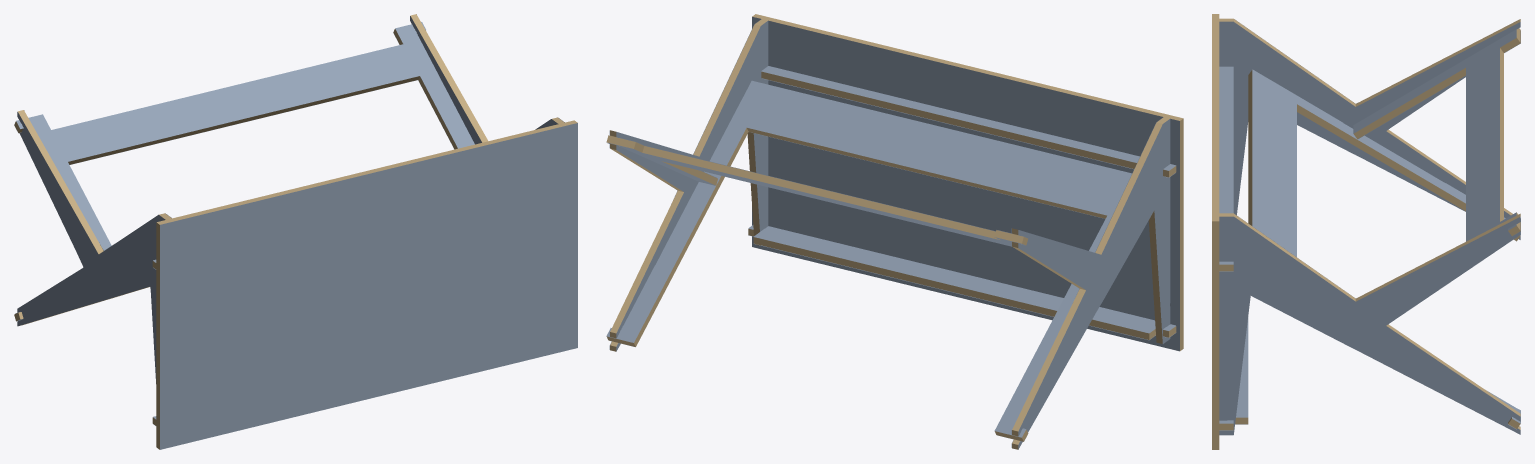
File: NODO_ESCRITORIO_ESCULTORICO_CUARZO_AR_UNIVERSAL_V11.glb
The picture shows the model from 3 angles, left to right: view 1: azimuth 30°, elevation 25°; view 2: azimuth 150°, elevation 25°; view 3: azimuth 270°, elevation 25°; orthographic projection. The views are drawn at different scales.
Visible parts, largest first — view 1: G_Tapa_Superior_CARAS_COLOR_REAL, B_Escuadra_Trasera_PIEL_LISA_1, D_Lateral_Izq_PIEL_LISA_-1, G_Tapa_Superior_CANTO_MDF, B_Escuadra_Trasera_canto, D_Lateral_Izq_cuerpo, D_Lateral_Izq_canto, C_Lateral_Der_canto, C_Lateral_Der_PIEL_LISA_-1; view 2: G_Tapa_Superior_CARAS_COLOR_REAL, A_Escuadra_Delantera_PIEL_LISA_1, D_Lateral_Izq_PIEL_LISA_-1, F_Traba_Delantera_PIEL_LISA_1, A_Escuadra_Delantera_cuerpo, C_Lateral_Der_PIEL_LISA_-1, B_Escuadra_Trasera_canto, D_Lateral_Izq_canto, C_Lateral_Der_canto, E_Traba_Trasera_PIEL_LISA_1, E_Traba_Trasera_canto, F_Traba_Delantera_canto (+5 smaller); view 3: C_Lateral_Der_PIEL_LISA_1, D_Lateral_Izq_PIEL_LISA_1, A_Escuadra_Delantera_PIEL_LISA_1, B_Escuadra_Trasera_PIEL_LISA_1, G_Tapa_Superior_CANTO_MDF, C_Lateral_Der_cuerpo, A_Escuadra_Delantera_canto, E_Traba_Trasera_PIEL_LISA_1, D_Lateral_Izq_cuerpo, B_Escuadra_Trasera_canto, C_Lateral_Der_canto, A_Escuadra_Delantera_cuerpo (+3 smaller).
Part boxes in pixels (left/top/right/bottom): G_Tapa_Superior_CARAS_COLOR_REAL: left=160, top=123, right=577, bottom=449; B_Escuadra_Trasera_PIEL_LISA_1: left=16, top=22, right=474, bottom=250; D_Lateral_Izq_PIEL_LISA_-1: left=17, top=112, right=164, bottom=330; G_Tapa_Superior_CANTO_MDF: left=156, top=120, right=577, bottom=449; B_Escuadra_Trasera_canto: left=14, top=29, right=457, bottom=164; D_Lateral_Izq_cuerpo: left=17, top=112, right=165, bottom=383; D_Lateral_Izq_canto: left=18, top=110, right=171, bottom=325; C_Lateral_Der_canto: left=410, top=14, right=564, bottom=142; C_Lateral_Der_PIEL_LISA_-1: left=410, top=16, right=557, bottom=144; G_Tapa_Superior_CARAS_COLOR_REAL: left=752, top=16, right=1179, bottom=351; A_Escuadra_Delantera_PIEL_LISA_1: left=606, top=80, right=1131, bottom=437; D_Lateral_Izq_PIEL_LISA_-1: left=1018, top=119, right=1170, bottom=448; F_Traba_Delantera_PIEL_LISA_1: left=749, top=225, right=1175, bottom=332; A_Escuadra_Delantera_cuerpo: left=607, top=127, right=1106, bottom=437; C_Lateral_Der_PIEL_LISA_-1: left=616, top=21, right=768, bottom=350; B_Escuadra_Trasera_canto: left=606, top=135, right=1027, bottom=245; D_Lateral_Izq_canto: left=1012, top=117, right=1169, bottom=449; C_Lateral_Der_canto: left=610, top=19, right=767, bottom=351; E_Traba_Trasera_PIEL_LISA_1: left=761, top=66, right=1175, bottom=170; E_Traba_Trasera_canto: left=761, top=71, right=1176, bottom=177; F_Traba_Delantera_canto: left=748, top=228, right=1176, bottom=339; C_Lateral_Der_PIEL_LISA_1: left=1219, top=216, right=1520, bottom=435; D_Lateral_Izq_PIEL_LISA_1: left=1219, top=22, right=1520, bottom=239; A_Escuadra_Delantera_PIEL_LISA_1: left=1252, top=69, right=1520, bottom=423; B_Escuadra_Trasera_PIEL_LISA_1: left=1353, top=29, right=1516, bottom=241; G_Tapa_Superior_CANTO_MDF: left=1212, top=14, right=1219, bottom=449; C_Lateral_Der_cuerpo: left=1219, top=217, right=1520, bottom=434; A_Escuadra_Delantera_canto: left=1248, top=70, right=1520, bottom=428; E_Traba_Trasera_PIEL_LISA_1: left=1219, top=66, right=1233, bottom=264; D_Lateral_Izq_cuerpo: left=1219, top=21, right=1520, bottom=239; B_Escuadra_Trasera_canto: left=1354, top=28, right=1520, bottom=235; C_Lateral_Der_canto: left=1219, top=213, right=1520, bottom=429; A_Escuadra_Delantera_cuerpo: left=1252, top=70, right=1520, bottom=423.
Size of what is drawn, in the model's own units: 1.22 by 0.628 by 0.7686.
